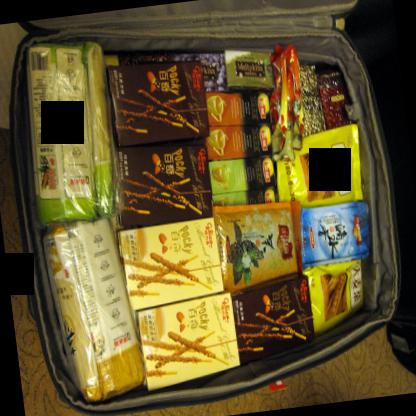suitcase: (4, 0, 400, 414)
